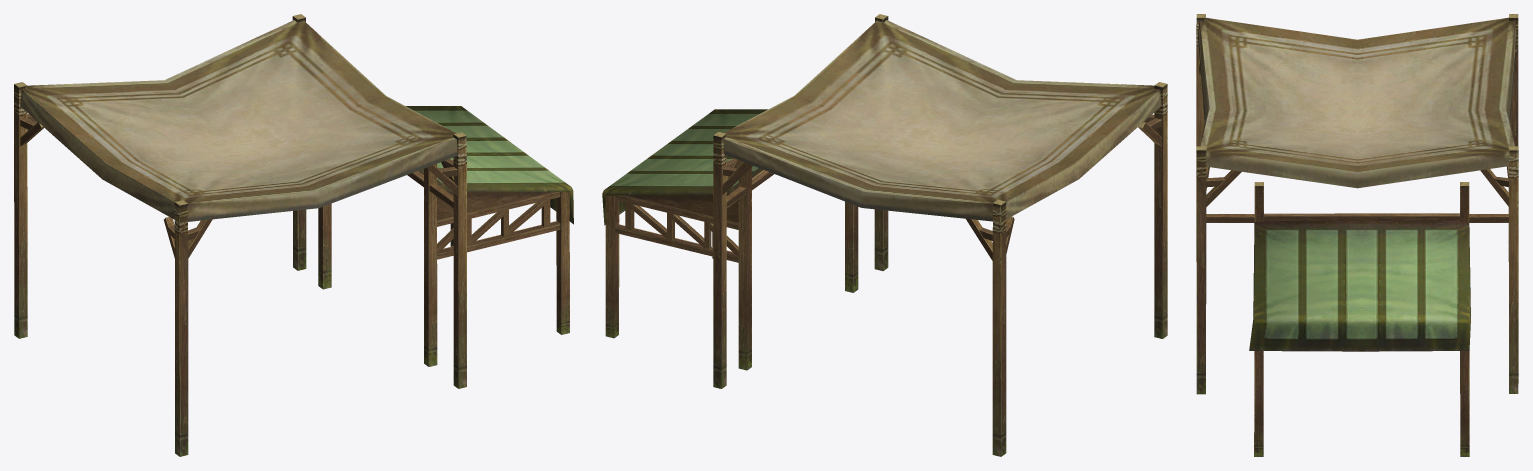
File: xzl_zhangpeng01_jgc.FBX
3 views of the same model, side by side, from view 1: azimuth 30°, elevation 25°; view 2: azimuth 150°, elevation 25°; view 3: azimuth 270°, elevation 25° (orthographic). The views are drawn at different scales.
Parts seen in each view (by area): view 1: xzl_zhangpeng01_jgc; view 2: xzl_zhangpeng01_jgc; view 3: xzl_zhangpeng01_jgc.
Part boxes in pixels (x1,y1,x2,y2): xzl_zhangpeng01_jgc: (14,14,573,456); xzl_zhangpeng01_jgc: (602,14,1167,456); xzl_zhangpeng01_jgc: (1196,14,1518,456).
Bounding box in the file's own units: 397 × 226 × 270.
